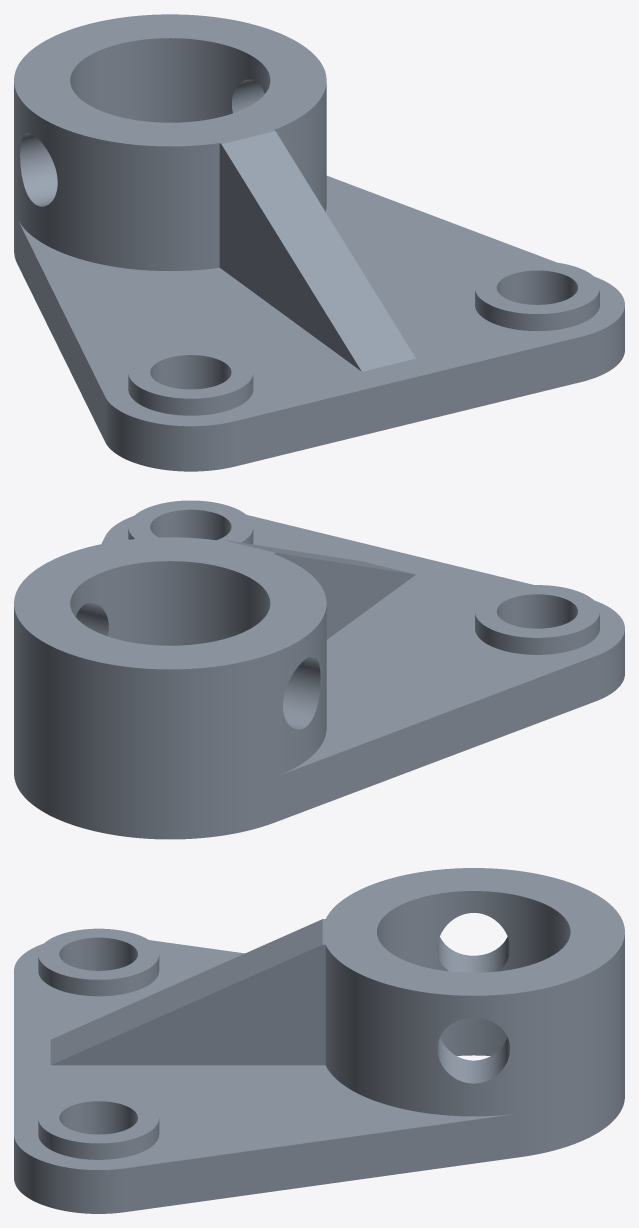
File: ax_corner_boss_bracket.glb
3 renders of one model, top to bottom at view 1: azimuth 30°, elevation 25°; view 2: azimuth 150°, elevation 25°; view 3: azimuth 270°, elevation 25°, orthographic. The views are drawn at different scales.
Visible parts, largest first — view 1: boss bracket; view 2: boss bracket; view 3: boss bracket.
Part boxes in pixels (left/top/right/bottom): boss bracket: left=14, top=14, right=624, bottom=471; boss bracket: left=14, top=500, right=624, bottom=839; boss bracket: left=14, top=868, right=624, bottom=1213.
Bounding box in the file's own units: 91.99 × 30 × 101.
